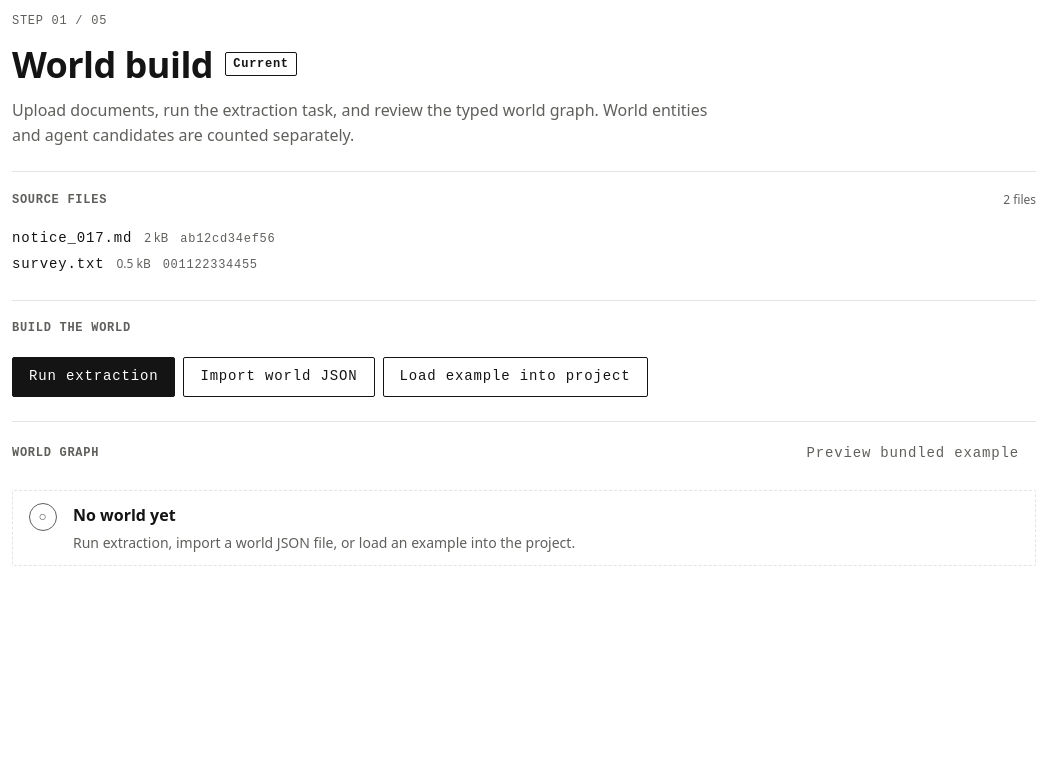
Test: Step1WorldBuild › extraction › reports a failed extraction task with its error
Click the button with test id "run-extraction" at (94, 377), box [12,357,175,397]
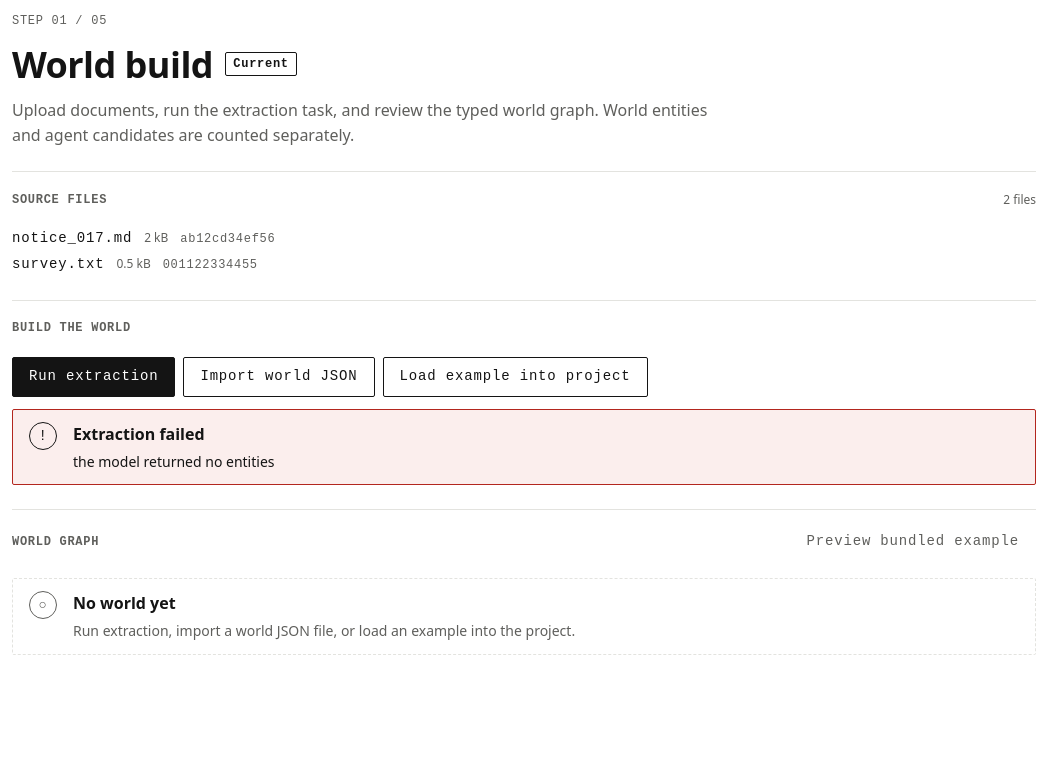
expect the message with test id "world-action-error" shows "Extraction failed": met, box [73,423,205,445]
expect the message with test id "world-action-error" shows "the model returned no entities": met, box [73,452,274,470]
